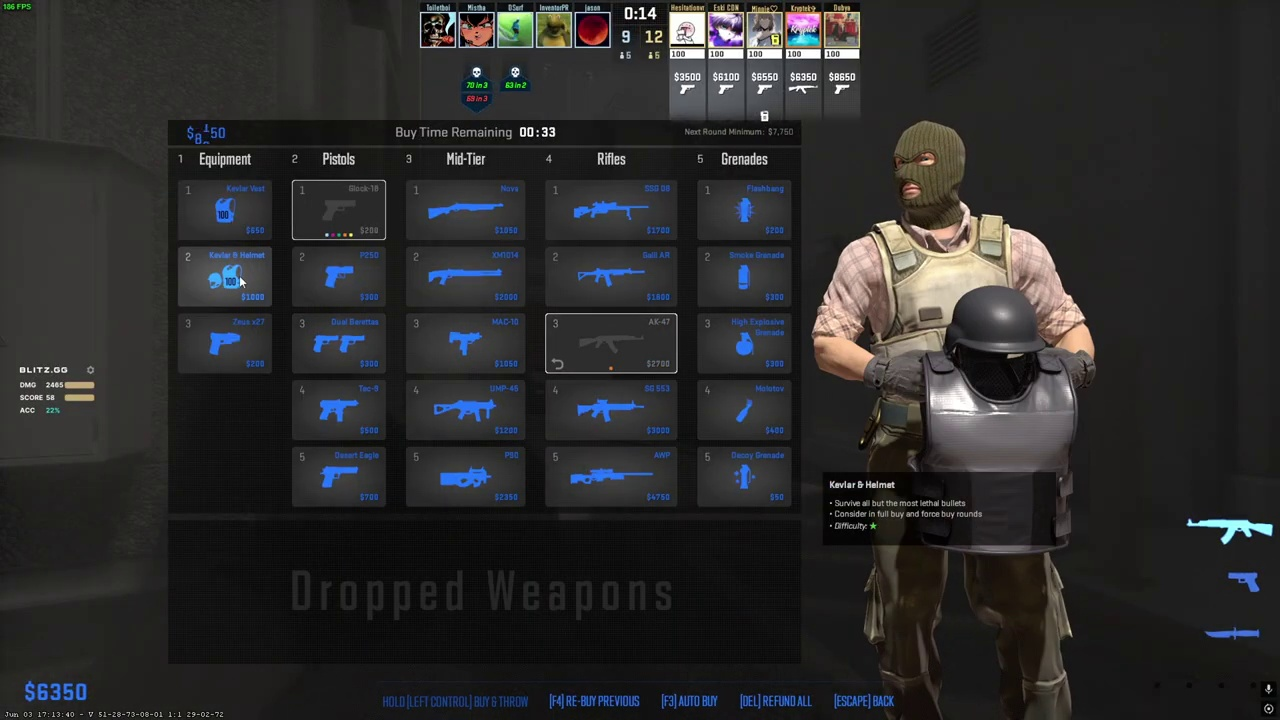Terrorist: (854, 120, 1081, 720)
